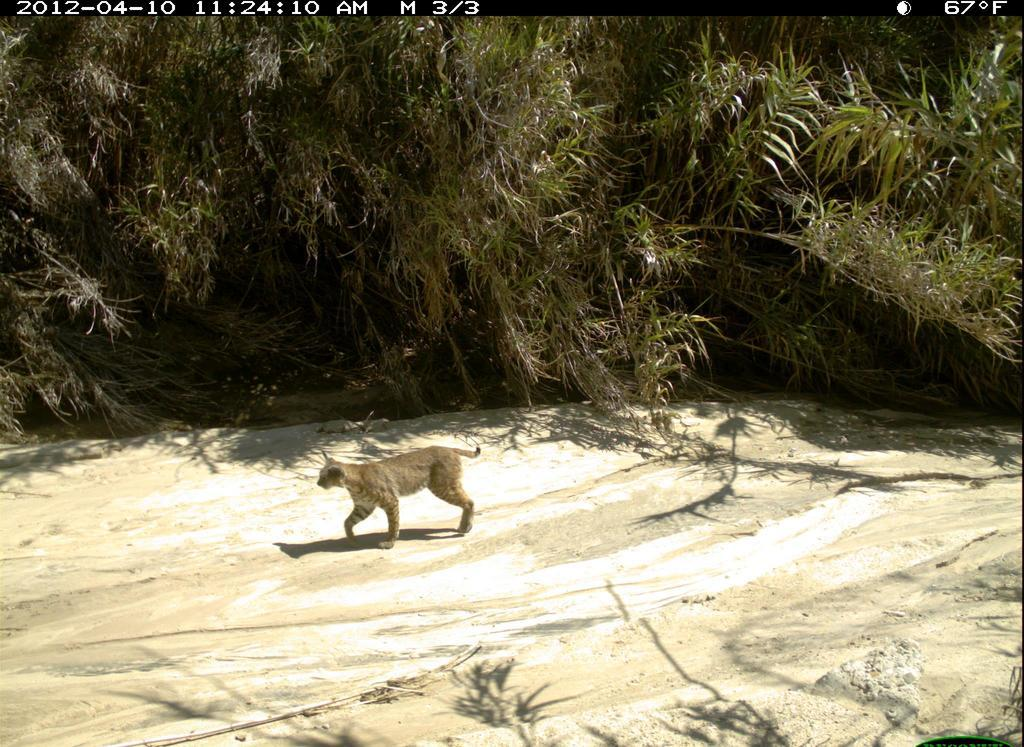bobcat: (309, 427, 500, 550)
